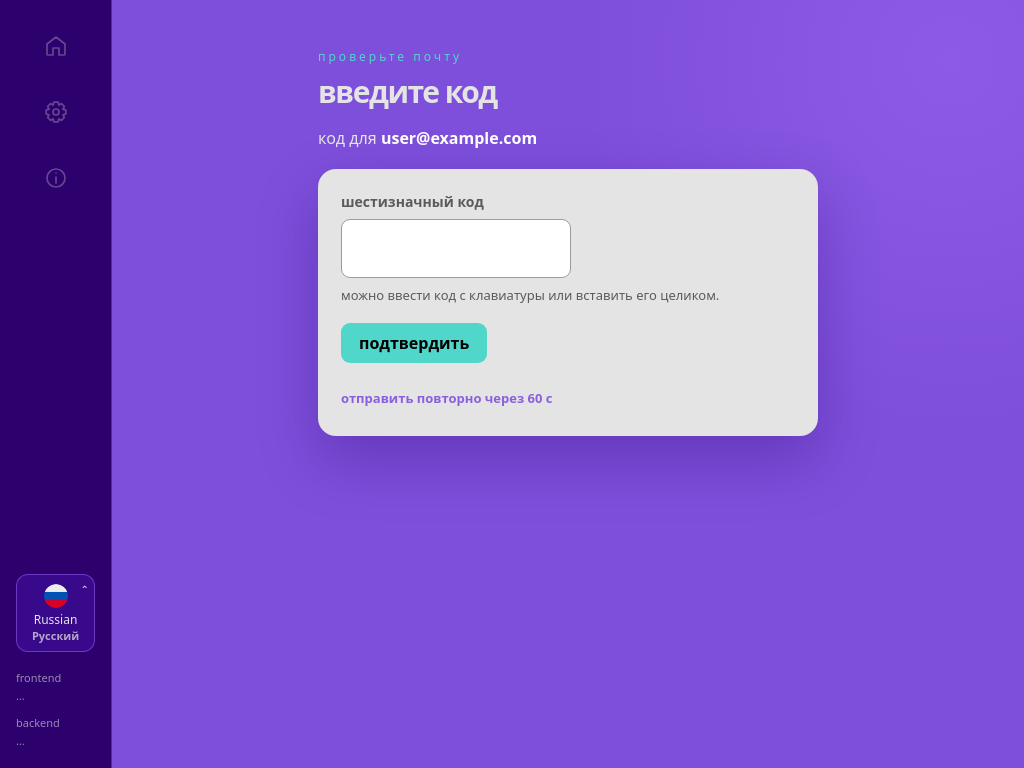
Test: OTP verification component › validates six digits before reading installation identity
Type "12345" into the field labelled "Шестизначный код" at [456, 248], box 341,219 -> 571,278
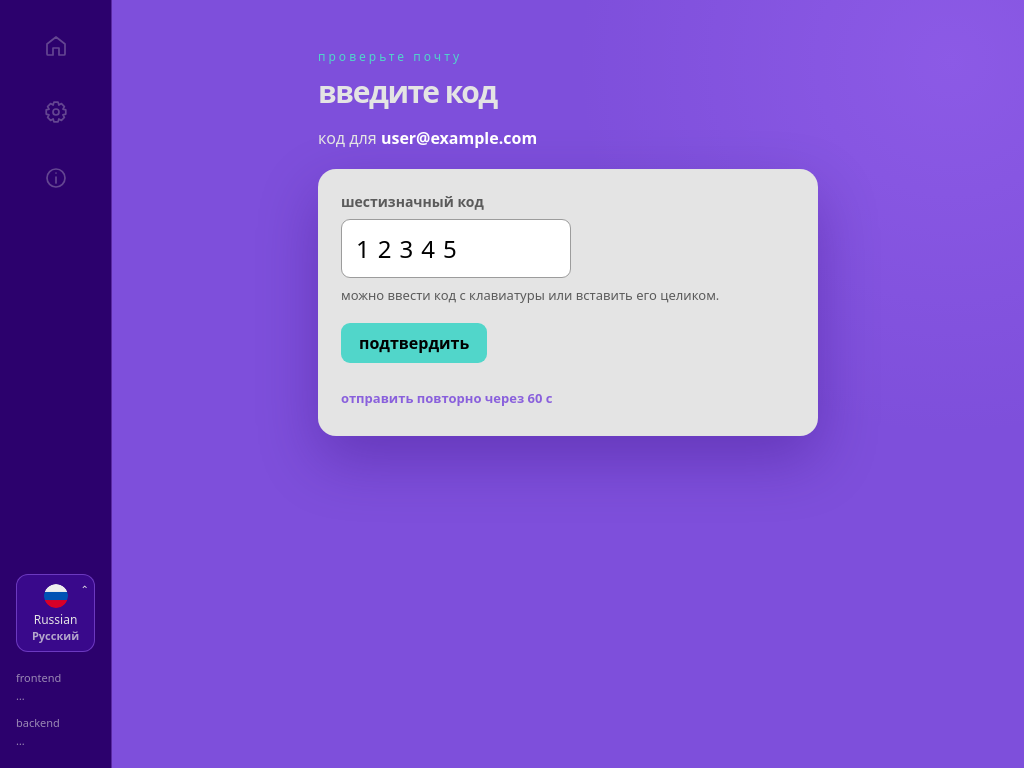
Click the button "подтвердить" at [414, 343], box 341,323 -> 487,363
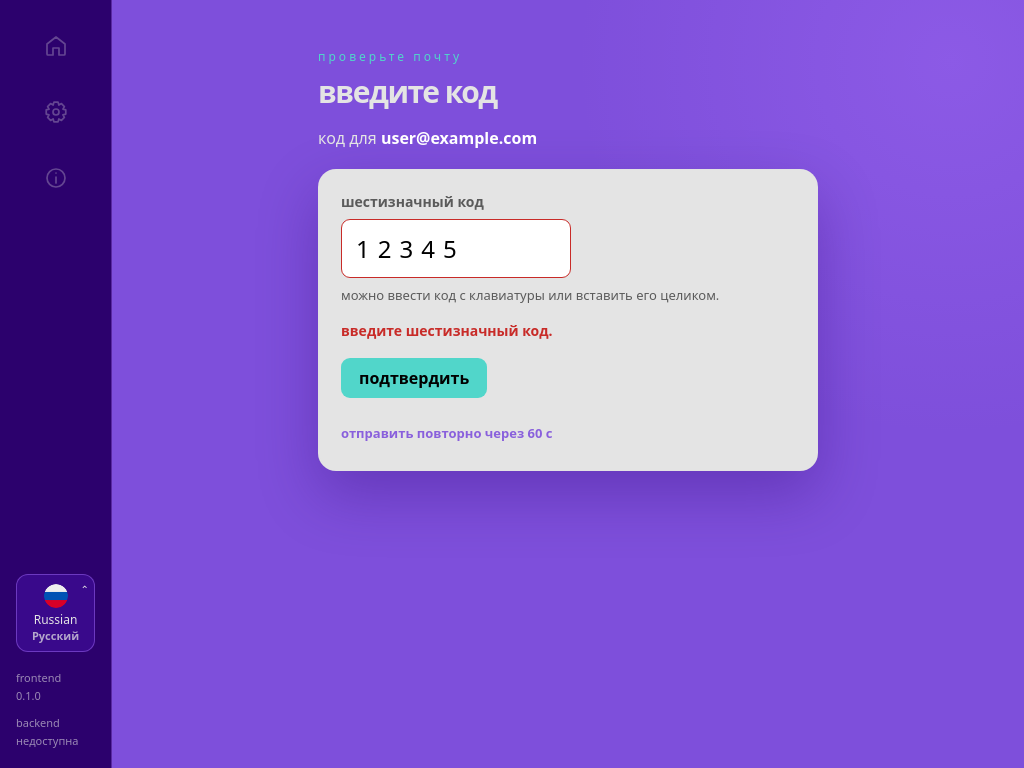
Expected: the message reads "Введите шестизначный код.", 341,321 -> 552,340
